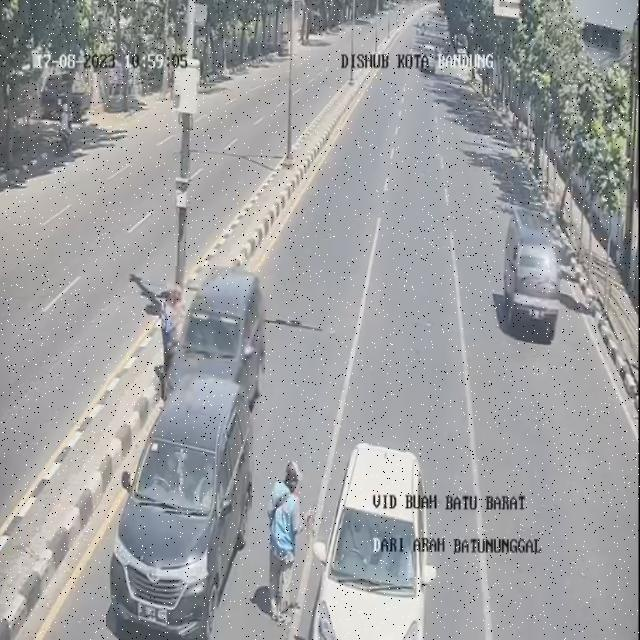cars: (107, 374, 251, 637), (310, 443, 445, 639), (168, 266, 265, 405), (505, 205, 560, 339)
